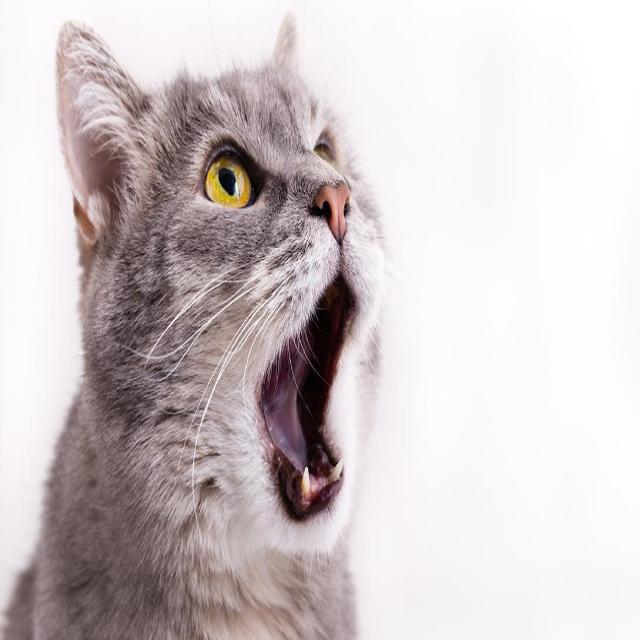Cat: (31, 4, 397, 596)
